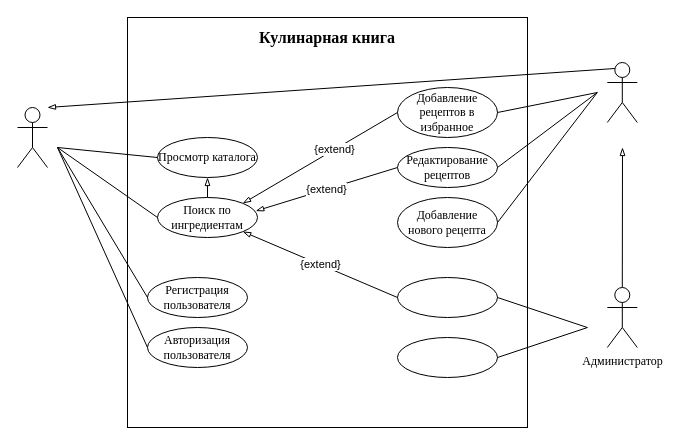
The diagram is 680 pixels wide and 445 high, and some of its shapes have lost their labels. Here are the shapes that lost their labels. From the top down, the centre of each, then its label:
At (621,92): "Кулинар".
At (32,137): "Гость".
At (447,297): "Удаление рецептов".
At (447,357): "Бан пользователя".
